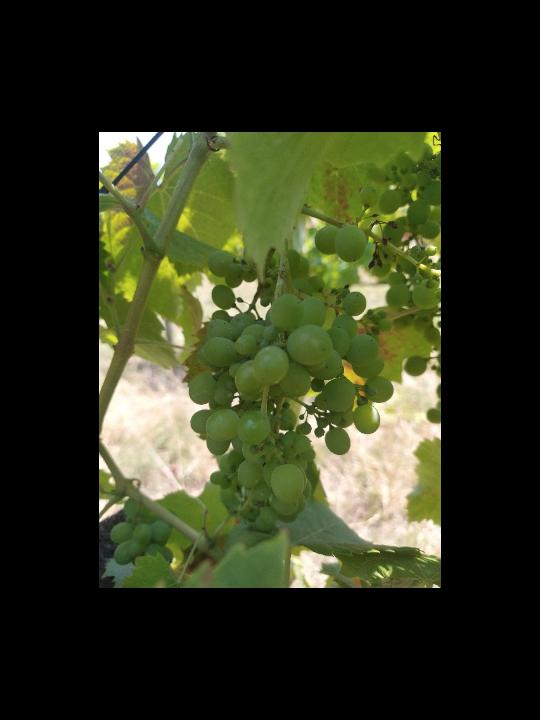grape: (185, 183, 395, 536)
